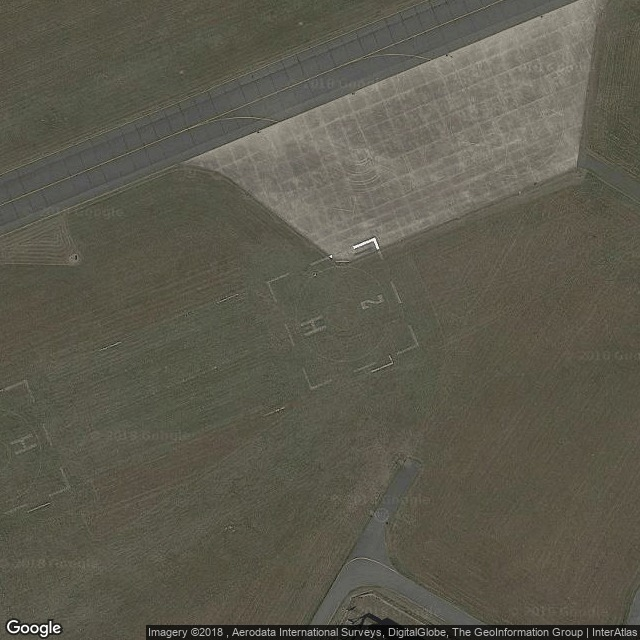heliport: (5, 426, 44, 459), (297, 312, 328, 338)
